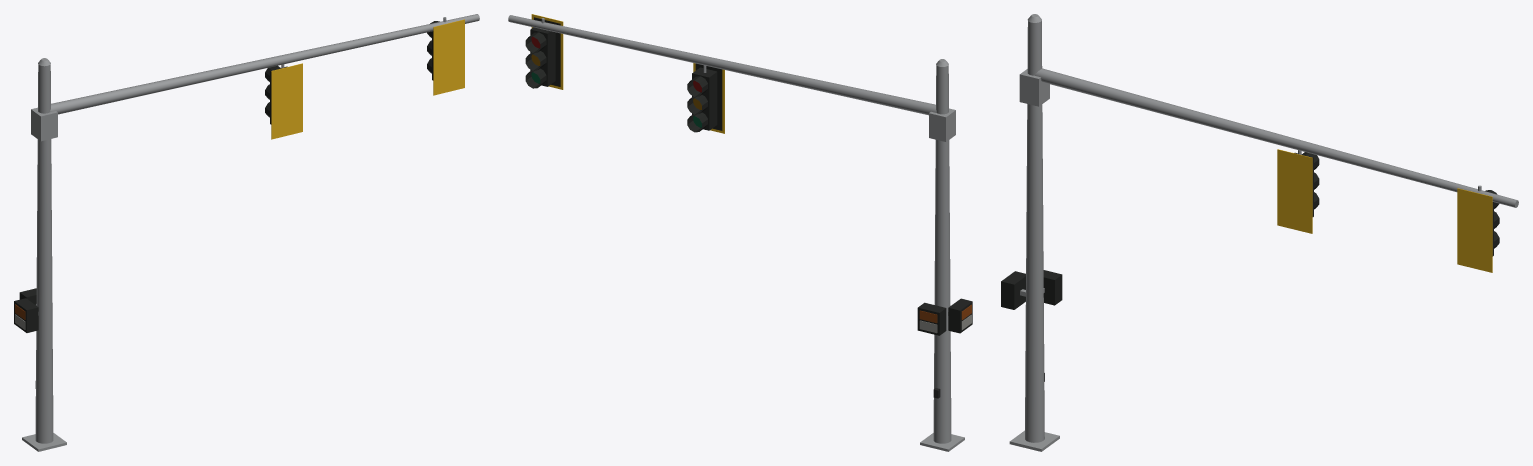
The model's file is traffic_signal_mast_9p1.glb.
The picture shows the model from 3 angles, left to right: view 1: azimuth 30°, elevation 25°; view 2: azimuth 150°, elevation 25°; view 3: azimuth 330°, elevation 25°; orthographic projection. The views are drawn at different scales.
Parts seen in each view (by area): view 1: traffic_signal_pole-col, signal_head_1, signal_head_2, ped_head_2; view 2: traffic_signal_pole-col, signal_head_1, signal_head_2, ped_head_1, ped_head_2; view 3: traffic_signal_pole-col, signal_head_1, signal_head_2, ped_head_2, ped_head_1.
Boxes of the visible parts, box(x1,y1,x2,y2) form: traffic_signal_pole-col: box(22, 14, 479, 451); signal_head_1: box(265, 63, 302, 139); signal_head_2: box(427, 17, 464, 95); ped_head_2: box(14, 298, 38, 332); traffic_signal_pole-col: box(508, 15, 964, 451); signal_head_1: box(687, 63, 724, 133); signal_head_2: box(525, 14, 563, 89); ped_head_1: box(917, 302, 946, 335); ped_head_2: box(948, 298, 972, 333); traffic_signal_pole-col: box(1009, 14, 1518, 451); signal_head_1: box(1277, 149, 1319, 233); signal_head_2: box(1457, 185, 1499, 272); ped_head_2: box(1001, 271, 1025, 309); ped_head_1: box(1043, 270, 1062, 305).
Bounding box in the file's own units: 9.62 × 7.68 × 0.815.
